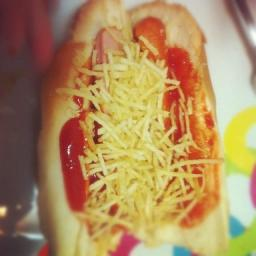hotdog: (134, 15, 167, 69), (96, 27, 124, 66)
